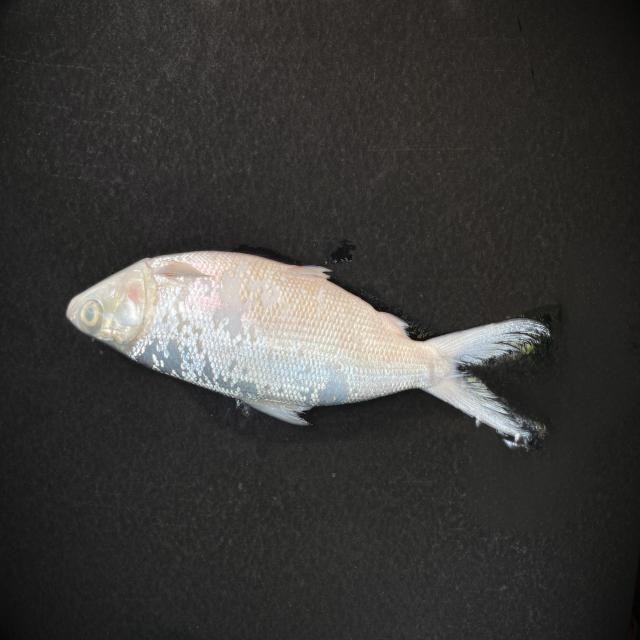675 g: (66, 250, 550, 439)
